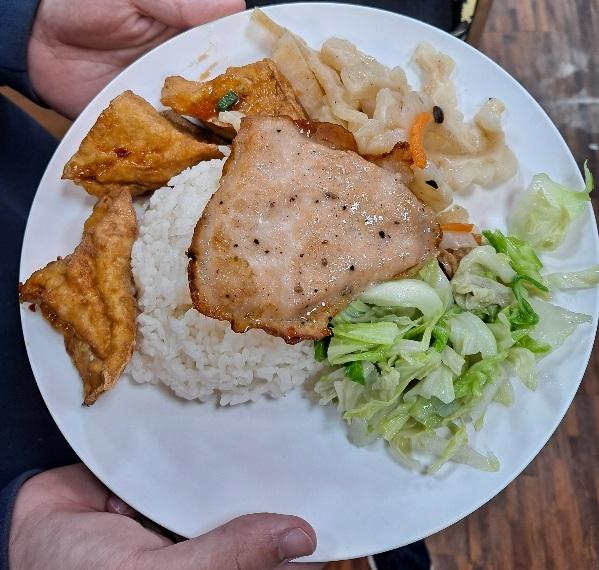big fried chicken leg: (8, 10, 599, 562)
big herbal chicken leg: (130, 154, 281, 415)
braised fish fillet: (340, 236, 586, 464), (192, 25, 520, 177), (46, 102, 160, 394)
braised pork: (203, 118, 441, 324)
